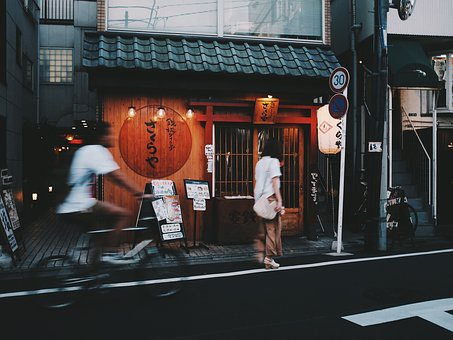bikerider: (23, 120, 196, 316)
